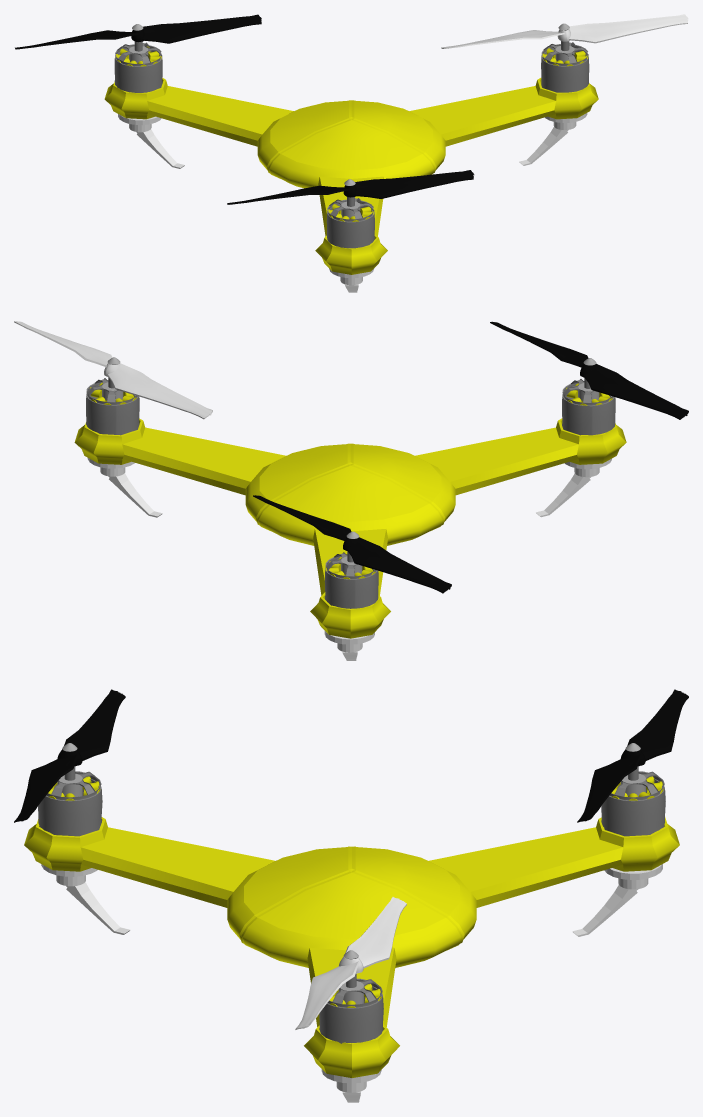
File: uav5.fbx
3 renders of one model, top to bottom at view 1: azimuth 30°, elevation 25°; view 2: azimuth 150°, elevation 25°; view 3: azimuth 270°, elevation 25°, orthographic. The views are drawn at different scales.
Parts seen in each view (by area): view 1: pCylinder70, polySurface68, polySurface63, polySurface66, pCylinder76, pCylinder71, pCylinder74, pCube13, pCube15; view 2: pCylinder70, polySurface66, polySurface63, polySurface68, pCylinder76, pCylinder74, pCylinder71, pCube14, pCube15, pCube13; view 3: pCylinder70, polySurface63, polySurface66, polySurface68, pCylinder74, pCylinder71, pCylinder76, pCube13, pCube14, pCube15.
Part boxes in pixels (box(x1,y1,x2,y2)): pCylinder70: box(104, 78, 598, 274); polySurface68: box(441, 14, 688, 48); polySurface63: box(15, 14, 261, 49); polySurface66: box(227, 170, 474, 204); pCylinder76: box(541, 41, 589, 92); pCylinder71: box(114, 41, 162, 92); pCylinder74: box(326, 197, 374, 248); pCube13: box(118, 114, 184, 168); pCube15: box(519, 113, 587, 165); pCylinder70: box(74, 418, 626, 638); polySurface66: box(490, 321, 688, 419); polySurface63: box(253, 495, 451, 593); polySurface68: box(14, 321, 212, 419); pCylinder76: box(86, 377, 139, 435); pCylinder74: box(562, 378, 615, 435); pCylinder71: box(324, 551, 378, 608); pCube14: box(536, 458, 611, 517); pCube15: box(87, 458, 162, 517); pCube13: box(324, 631, 374, 660); pCylinder70: box(24, 817, 679, 1077); polySurface63: box(577, 689, 688, 822); polySurface66: box(14, 689, 125, 822); polySurface68: box(295, 897, 406, 1029); pCylinder74: box(38, 766, 102, 836); pCylinder71: box(601, 766, 665, 836); pCylinder76: box(319, 973, 383, 1043); pCube13: box(572, 864, 662, 936); pCube14: box(41, 864, 129, 934); pCube15: box(321, 1069, 381, 1102).
Size of the model in its own units: 27.14 by 6.51 by 22.5.
